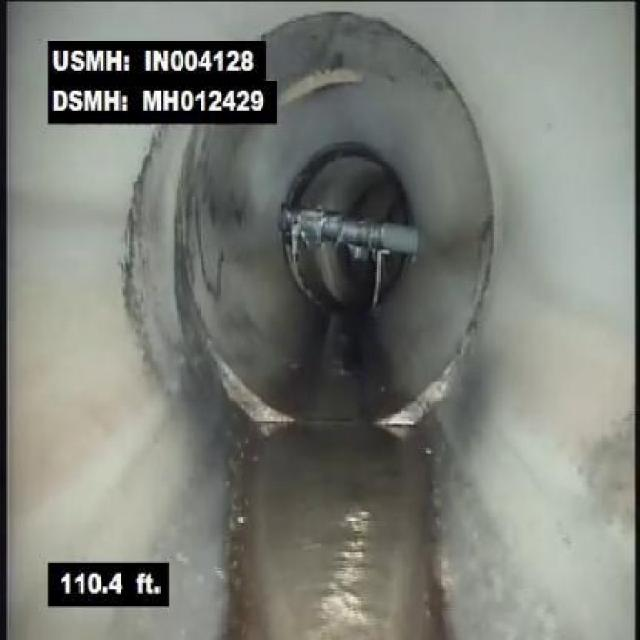Joint offset: (380, 297, 488, 431), (203, 334, 300, 424)
